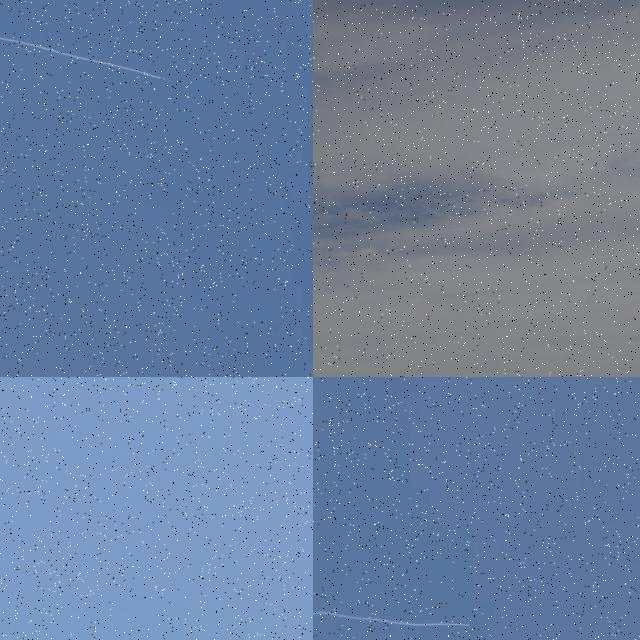Rocket: (166, 79, 172, 83), (468, 624, 470, 626)
